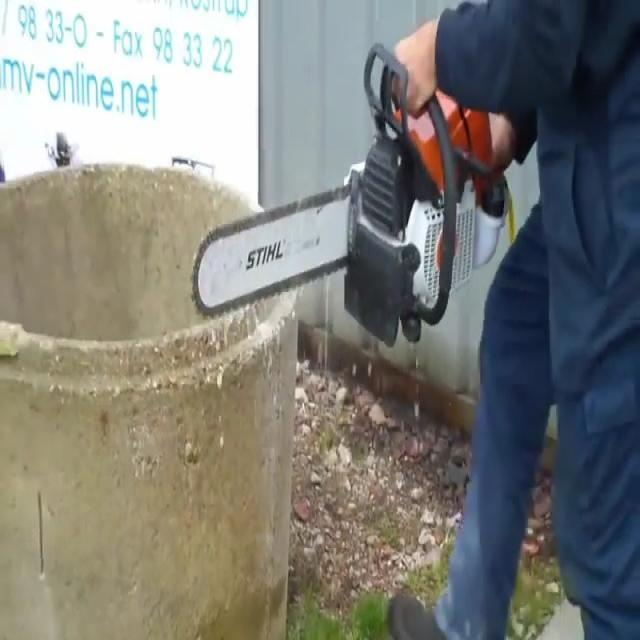Chainsaw: (184, 16, 537, 354)
